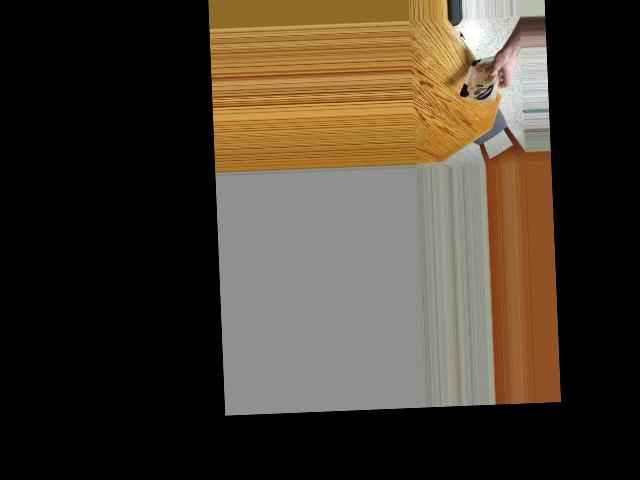cheese: (461, 50, 499, 101)
